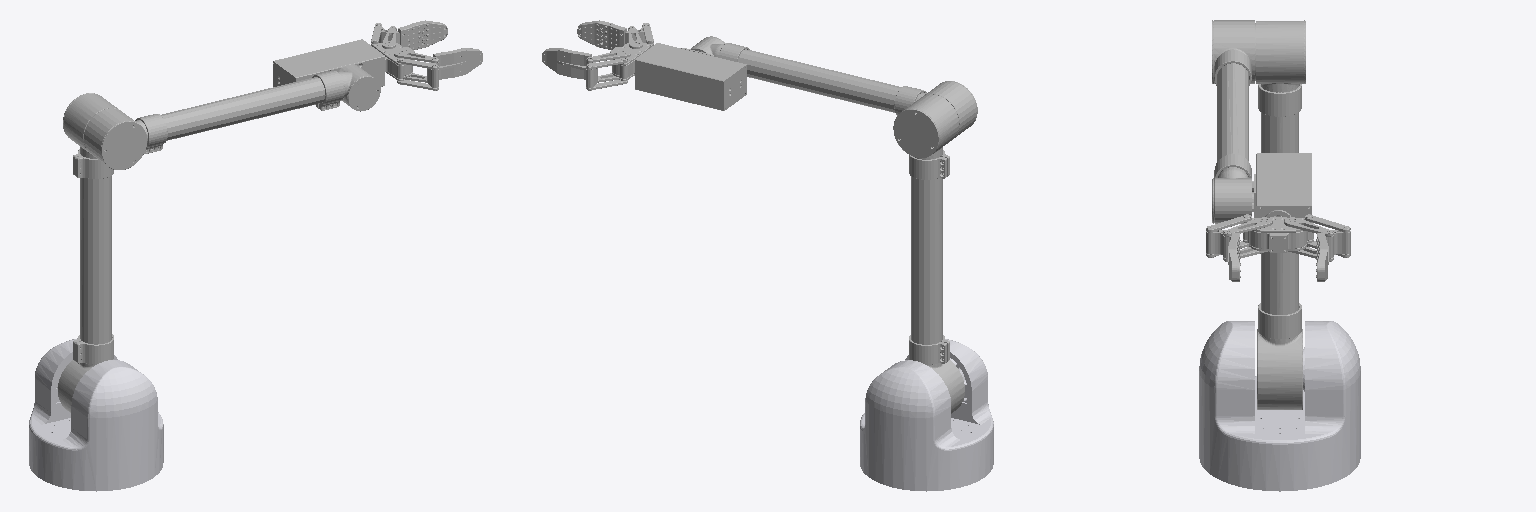
URDF robot description (tracked_robot_control):
<robot name="tracked_robot_control">
  <link
    name="virtual_link">
  </link>
  <link
    name="link0">
    <visual>
      <origin
        xyz="0 0 0"
        rpy="0 0 0" />
      <geometry>
        <mesh
          filename="package://tracked_robot_control/meshes/link0.STL" />
      </geometry>
      <material
        name="">
        <color
          rgba="0.866666666666667 0.866666666666667 0.890196078431372 1" />
      </material>
    </visual>
    <collision>
      <origin
        xyz="0 0 0"
        rpy="0 0 0" />
      <geometry>
        <mesh
          filename="package://tracked_robot_control/meshes/link0.STL" />
      </geometry>
    </collision>
  </link>
  <joint
    name="virtual_joint"
    type="revolute">
    <origin
      xyz="0 0 0.0505"
      rpy="0 0 0" />
    <parent
      link="virtual_link" />
    <child
      link="link0" />
    <axis
      xyz="0 0 1" />
    <limit
      lower="-3.14"
      upper="3.14"
      effort="300"
      velocity="20.943951" />
  </joint>
  <link
    name="link1">
    <visual>
      <origin
        xyz="0 0 0"
        rpy="0 0 0" />
      <geometry>
        <mesh
          filename="package://tracked_robot_control/meshes/link1.STL" />
      </geometry>
      <material
        name="">
        <color
          rgba="0.752941176470588 0.752941176470588 0.752941176470588 1" />
      </material>
    </visual>
    <collision>
      <origin
        xyz="0 0 0"
        rpy="0 0 0" />
      <geometry>
        <mesh
          filename="package://tracked_robot_control/meshes/link1.STL" />
      </geometry>
    </collision>
  </link>
  <joint
    name="joint1"
    type="revolute">
    <origin
      xyz="0 0 0.1535"
      rpy="1.5708 0 -3.1416" />
    <parent
      link="link0" />
    <child
      link="link1" />
    <axis
      xyz="0 0 1" />
    <limit
      lower="-1.22"
      upper="1.22"
      effort="0"
      velocity="20.943951" />
  </joint>
  <link
    name="link2">
    <visual>
      <origin
        xyz="0 0 0"
        rpy="0 0 0" />
      <geometry>
        <mesh
          filename="package://tracked_robot_control/meshes/link2.STL" />
      </geometry>
      <material
        name="">
        <color
          rgba="0.752941176470588 0.752941176470588 0.752941176470588 1" />
      </material>
    </visual>
    <collision>
      <origin
        xyz="0 0 0"
        rpy="0 0 0" />
      <geometry>
        <mesh
          filename="package://tracked_robot_control/meshes/link2.STL" />
      </geometry>
    </collision>
  </link>
  <joint
    name="joint2"
    type="revolute">
    <origin
      xyz="0 0.542 -0.0725"
      rpy="0 0 1.5708" />
    <parent
      link="link1" />
    <child
      link="link2" />
    <axis
      xyz="0 0 1" />
    <limit
      lower="-3.14"
      upper="1.22"
      effort="0"
      velocity="10.4719755" />
  </joint>
  <link
    name="link3">
    <visual>
      <origin
        xyz="0 0 0"
        rpy="0 0 0" />
      <geometry>
        <mesh
          filename="package://tracked_robot_control/meshes/link3.STL" />
      </geometry>
      <material
        name="">
        <color
          rgba="0.752941176470588 0.752941176470588 0.752941176470588 1" />
      </material>
    </visual>
    <collision>
      <origin
        xyz="0 0 0"
        rpy="0 0 0" />
      <geometry>
        <mesh
          filename="package://tracked_robot_control/meshes/link3.STL" />
      </geometry>
    </collision>
  </link>
  <joint
    name="joint3"
    type="revolute">
    <origin
      xyz="-0.014 0.515 0.07"
      rpy="0 0 1.5708" />
    <parent
      link="link2" />
    <child
      link="link3" />
    <axis
      xyz="0 0 1" />
    <limit
      lower="-1.57"
      upper="1.57"
      effort="0"
      velocity="52.3598775" />
  </joint>
  <link
    name="link4">
    <visual>
      <origin
        xyz="0 0 0"
        rpy="0 0 0" />
      <geometry>
        <mesh
          filename="package://tracked_robot_control/meshes/link4.STL" />
      </geometry>
      <material
        name="">
        <color
          rgba="0.752941176470588 0.752941176470588 0.752941176470588 1" />
      </material>
    </visual>
    <collision>
      <origin
        xyz="0 0 0"
        rpy="0 0 0" />
      <geometry>
        <mesh
          filename="package://tracked_robot_control/meshes/link4.STL" />
      </geometry>
    </collision>
  </link>
  <joint
    name="joint4"
    type="revolute">
    <origin
      xyz="0.22166 0 0"
      rpy="1.5708 0 1.5708" />
    <parent
      link="link3" />
    <child
      link="link4" />
    <axis
      xyz="0 0 1" />
    <limit
      lower="-3.14"
      upper="3.14"
      effort="0"
      velocity="52.3598775" />
  </joint>
</robot>

--- What the picture shows (computed from the rendered views, not written in the file) ---
3 views of the same robot in one strip: view 1: azimuth 30°, elevation 25°; view 2: azimuth 150°, elevation 25°; view 3: azimuth 270°, elevation 25° (orthographic).
Robot: tracked_robot_control — 6 links, 5 joints (5 revolute); root link virtual_link; default pose: all joints at 0.
Links seen in each view (by area): view 1: link0, link2, link1, link4, link3; view 2: link0, link1, link2, link3, link4; view 3: link0, link1, link2, link4, link3.
Link boxes in pixels (<box>): link0: <box>29,338,163,491</box>; link2: <box>84,65,380,169</box>; link1: <box>58,93,120,412</box>; link4: <box>371,20,482,90</box>; link3: <box>273,39,384,86</box>; link0: <box>860,339,993,491</box>; link1: <box>893,94,964,413</box>; link2: <box>691,36,977,137</box>; link3: <box>635,43,746,110</box>; link4: <box>542,20,653,90</box>; link0: <box>1199,321,1360,491</box>; link1: <box>1255,20,1305,409</box>; link2: <box>1212,20,1254,223</box>; link4: <box>1206,214,1350,281</box>; link3: <box>1252,153,1311,217</box>.
Bounding box of the posed robot: 0.9117 × 0.25 × 0.741 m (x, y, z).
Meshes: 5 distinct files referenced, 5 mesh visuals loaded (5 binary STL).